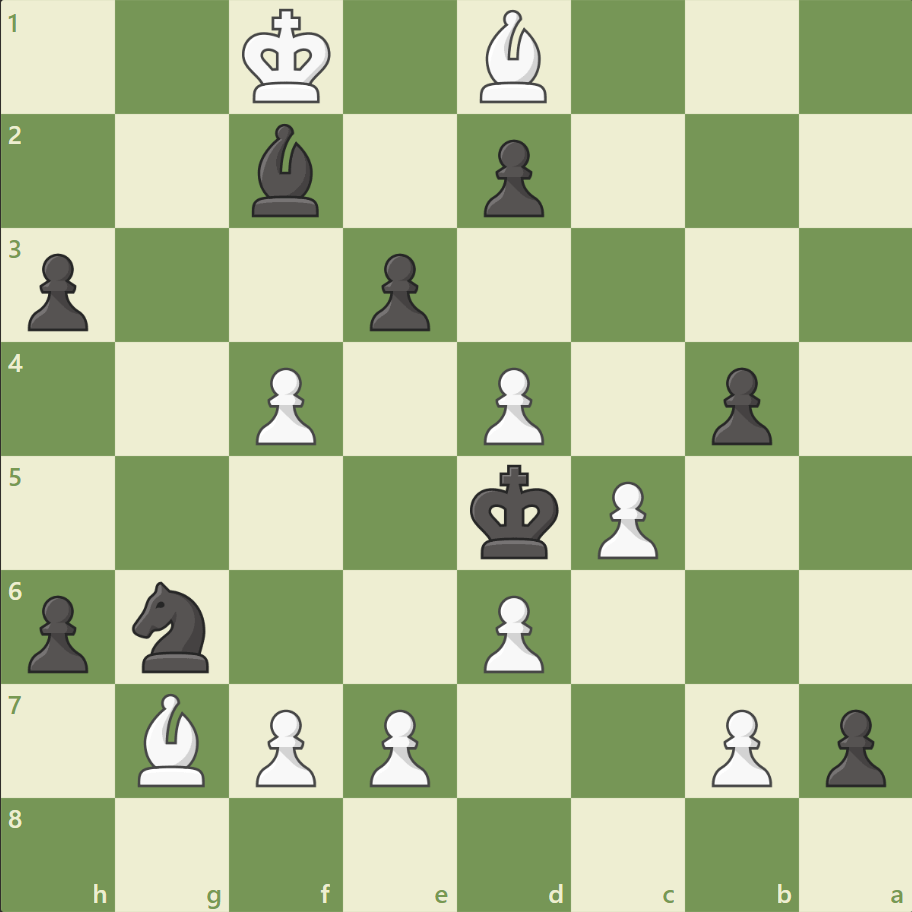B: (131, 687, 215, 790), (471, 6, 555, 109)
K: (238, 4, 338, 112)
P: (701, 700, 776, 791), (247, 700, 322, 791), (474, 586, 549, 677), (474, 359, 549, 450), (247, 359, 322, 450), (361, 700, 435, 791), (588, 473, 662, 564)
b: (244, 120, 328, 222)
k: (465, 458, 565, 566)
n: (124, 575, 222, 677)
p: (20, 586, 95, 677), (701, 359, 776, 450), (20, 246, 95, 337), (474, 132, 549, 223), (815, 700, 889, 791), (361, 246, 435, 337)
